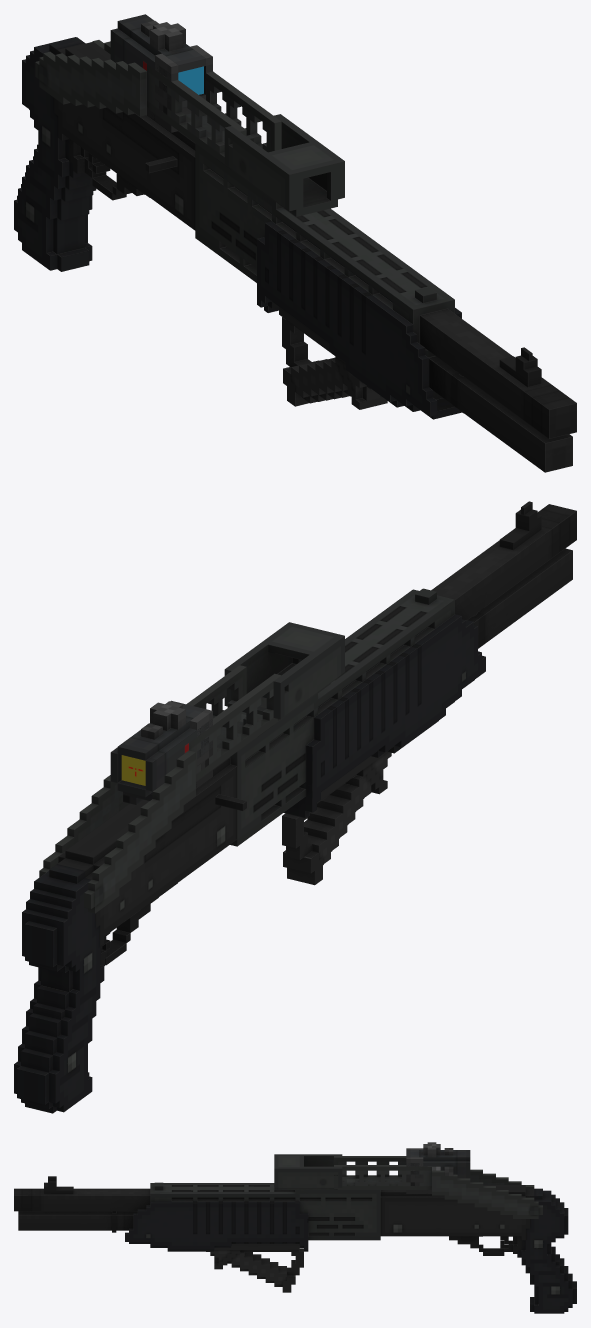
File: RD_SPAS12.glb
The picture shows the model from 3 angles, top to bottom: view 1: azimuth 30°, elevation 25°; view 2: azimuth 150°, elevation 25°; view 3: azimuth 270°, elevation 25°; orthographic projection. The views are drawn at different scales.
Parts seen in each view (by area): view 1: SPAS12, SPAS12_STOCK_P1, SPAS12_STOCK_P2, GRIP2, SCOPE_TASCO, SCOPE_HOLOSUN; view 2: SPAS12, SPAS12_STOCK_P1, SPAS12_STOCK_P2, GRIP2, SCOPE_TASCO, SCOPE_HOLOSUN; view 3: SPAS12, SPAS12_STOCK_P1, GRIP2, SPAS12_STOCK_P2, SCOPE_TASCO, SCOPE_HOLOSUN.
Boxes of the visible parts, bbox=[...] form: SPAS12: bbox=[14, 37, 576, 472]; SPAS12_STOCK_P1: bbox=[35, 40, 281, 175]; SPAS12_STOCK_P2: bbox=[224, 114, 344, 216]; GRIP2: bbox=[279, 307, 387, 409]; SCOPE_TASCO: bbox=[110, 14, 212, 123]; SCOPE_HOLOSUN: bbox=[147, 45, 212, 132]; SPAS12: bbox=[14, 501, 576, 1113]; SPAS12_STOCK_P1: bbox=[39, 665, 281, 913]; SPAS12_STOCK_P2: bbox=[224, 622, 344, 720]; GRIP2: bbox=[282, 751, 391, 885]; SCOPE_TASCO: bbox=[110, 701, 212, 805]; SCOPE_HOLOSUN: bbox=[170, 700, 212, 788]; SPAS12: bbox=[14, 1174, 576, 1313]; SPAS12_STOCK_P1: bbox=[334, 1156, 542, 1218]; GRIP2: bbox=[206, 1244, 303, 1292]; SPAS12_STOCK_P2: bbox=[274, 1154, 342, 1189]; SCOPE_TASCO: bbox=[406, 1142, 470, 1193]; SCOPE_HOLOSUN: bbox=[406, 1148, 431, 1193].
Bounding box in the file's own units: 0.1083 × 0.4134 × 1.3.
6 materials, 6 textured.
